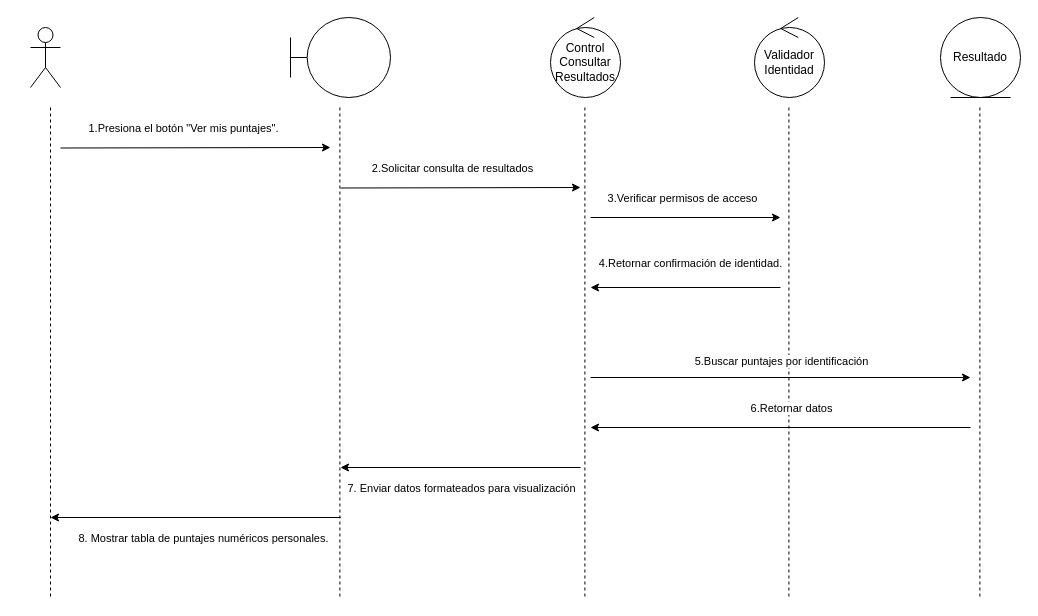
This 1038x616 diagram has some shape labels left out. Each missing label, with the centre of its shape:
"Estudiante" goes at (45,57).
"Pantalla Consulta Estudiante" goes at (340,57).
